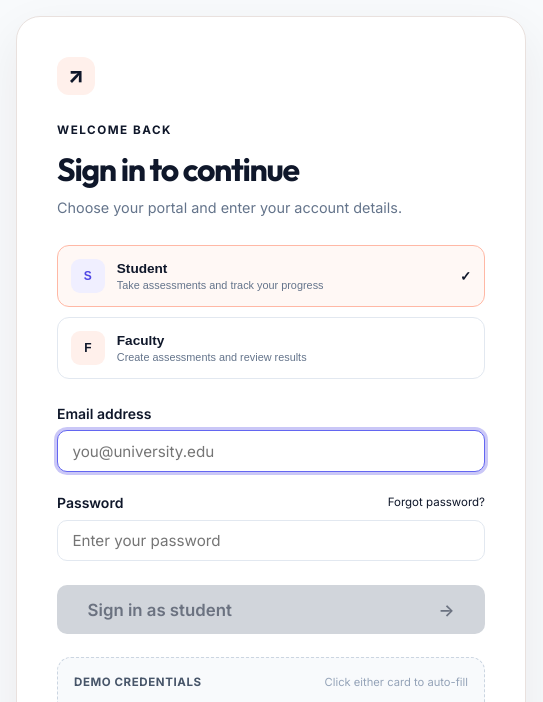
Test: Frontend Component & UI Tests › renders LoginPage with role selection and email/password inputs
The width and height of the screenshot is (543, 702).
Check: the password field labelled "Password" is shown, box left=57, top=520, right=485, bottom=561
Check: the button "F Faculty Create assessments and review results" is shown, box left=57, top=317, right=485, bottom=379
Type "student@example.com" into the field labelled "Email address".
click(271, 451); type("student@example.com")  # box left=57, top=430, right=485, bottom=472
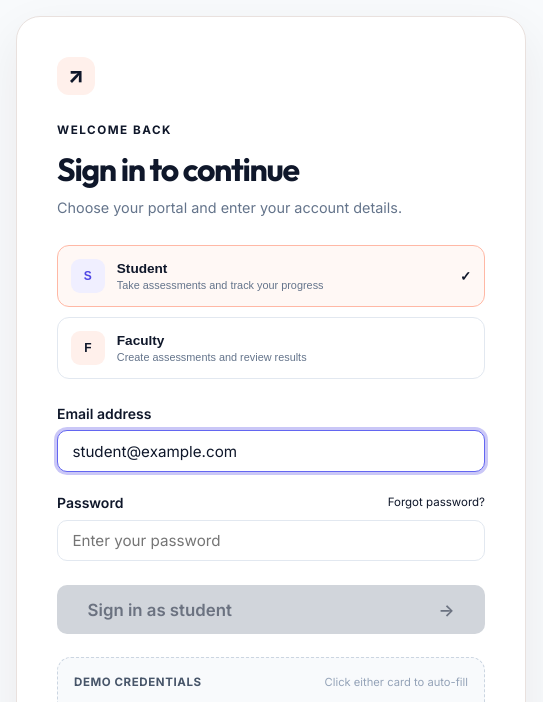
Type "password" into the password field labelled "Password".
click(271, 540); type("password")  # box left=57, top=520, right=485, bottom=561
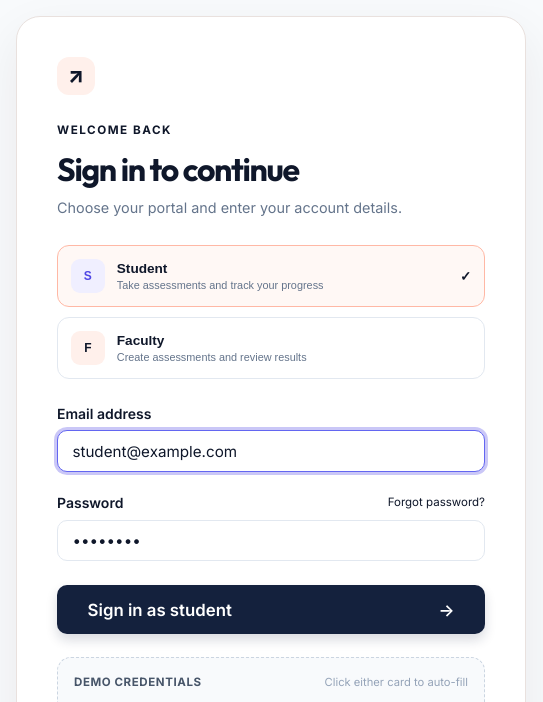
Check: the button "Sign in as student →" is enabled, box left=57, top=585, right=485, bottom=634
Click the button "F Faculty Create assessments and review results".
click(271, 348)  # box left=57, top=317, right=485, bottom=379
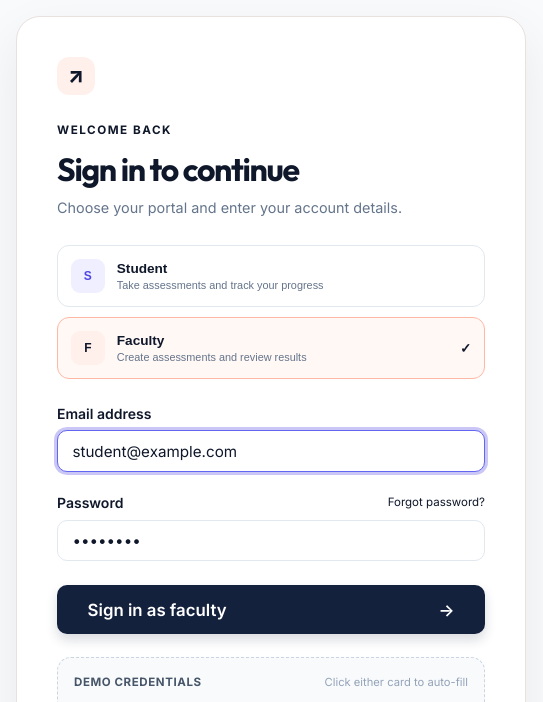
Check: the button "Sign in as faculty →" is shown, box left=57, top=585, right=485, bottom=634
